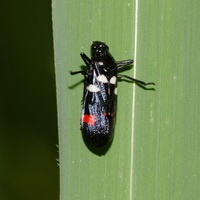insect: (70, 41, 154, 154)
